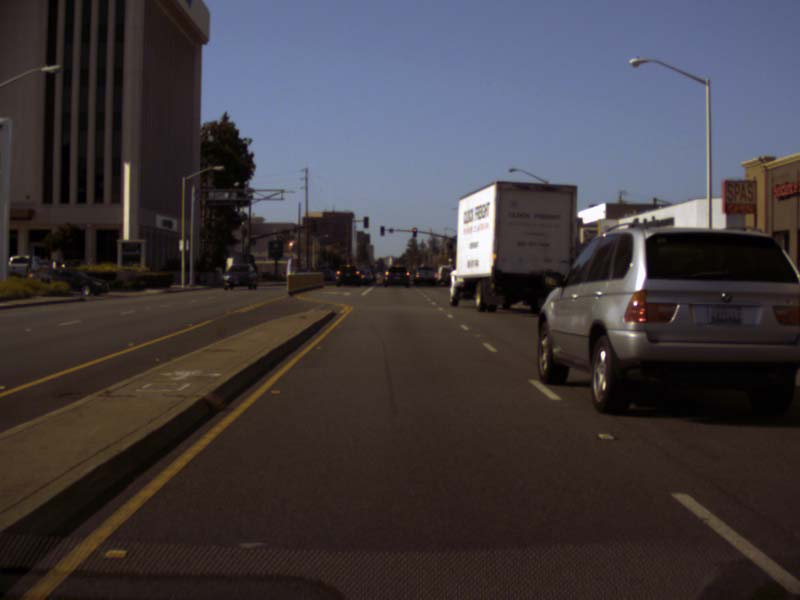Red: (412, 227, 416, 237)
